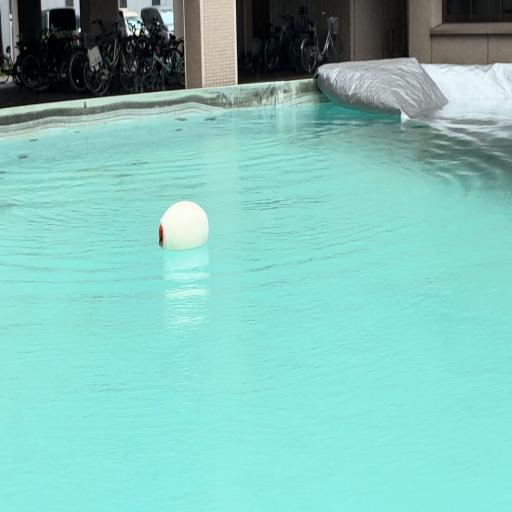white buoy: (158, 200, 208, 250)
